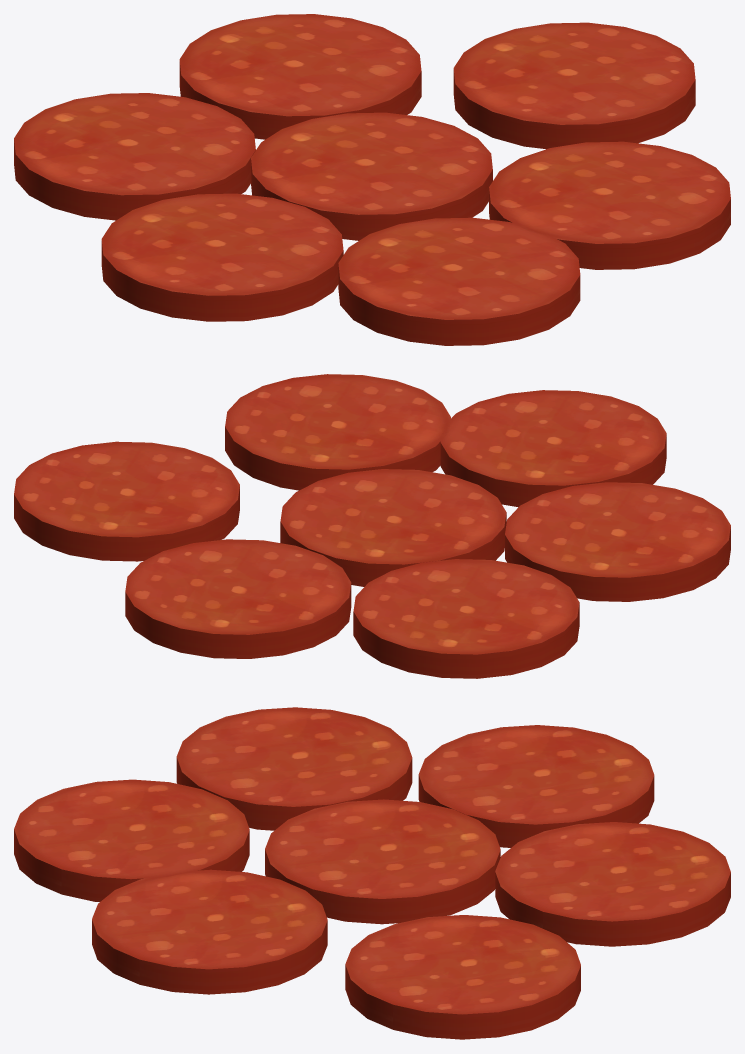
Rendered from Pizza_Pepperoni_Base.fbx.
The picture shows the model from 3 angles, top to bottom: view 1: azimuth 30°, elevation 25°; view 2: azimuth 150°, elevation 25°; view 3: azimuth 270°, elevation 25°; orthographic projection. The views are drawn at different scales.
Parts seen in each view (by area): view 1: Pizza_Pepperoni_Base; view 2: Pizza_Pepperoni_Base; view 3: Pizza_Pepperoni_Base.
Part boxes in pixels (left/top/right/bottom): Pizza_Pepperoni_Base: left=14, top=14, right=730, bottom=345; Pizza_Pepperoni_Base: left=14, top=374, right=730, bottom=678; Pizza_Pepperoni_Base: left=14, top=707, right=730, bottom=1039.
Bounding box in the file's own units: 0.6688 × 0.0256 × 0.6598.
Materials: 1 (1 with a texture image).
